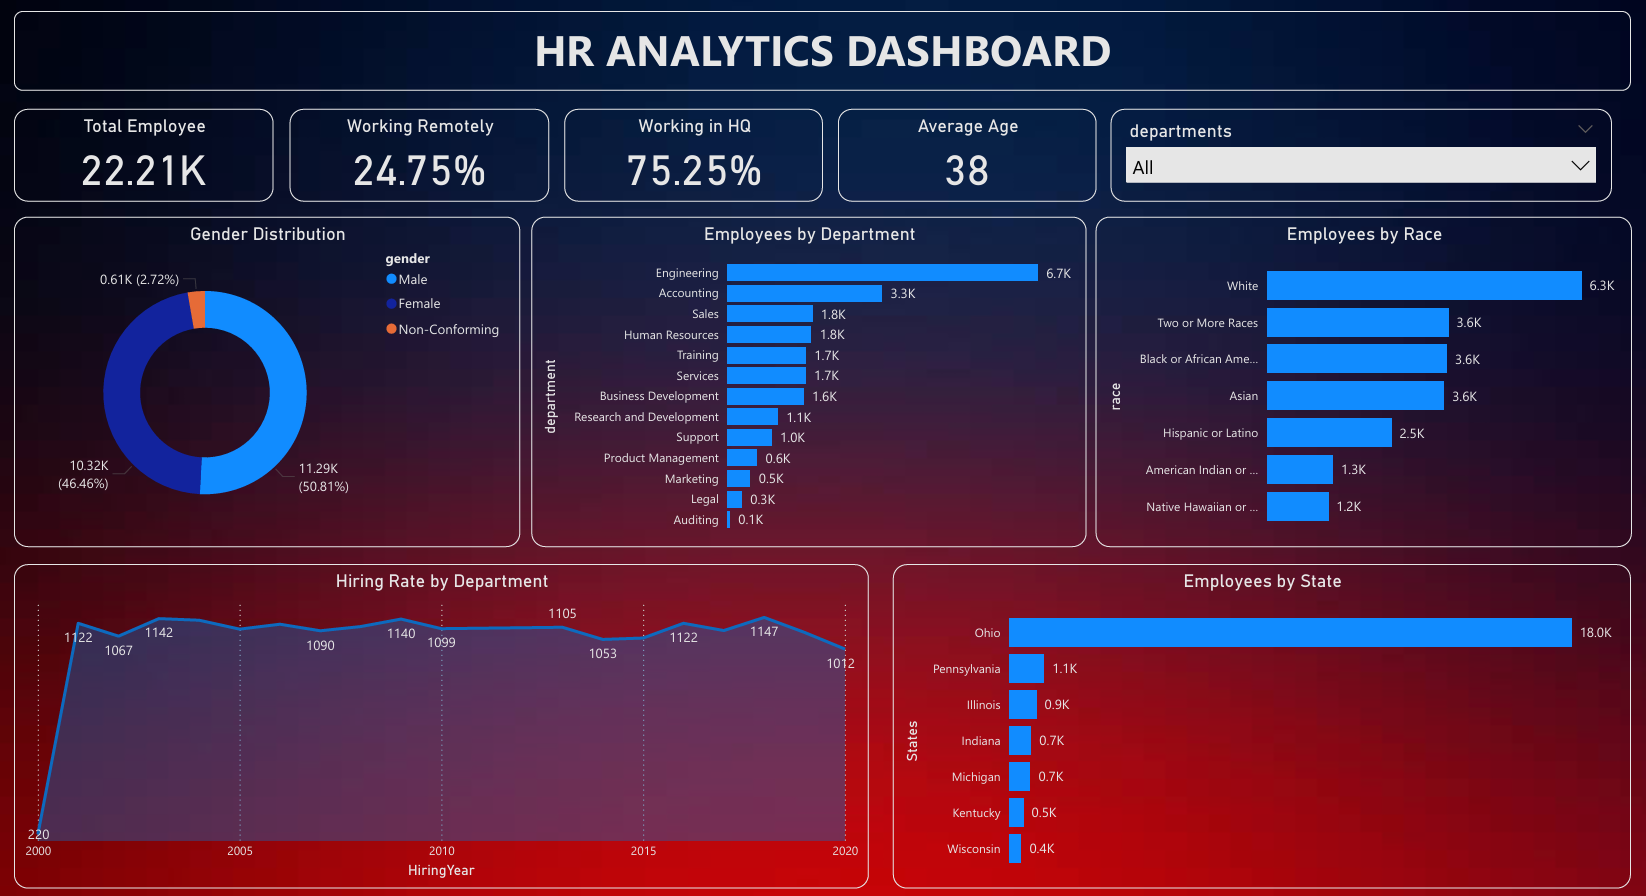

The dashboard page shown, as its layout file describes it:
{"tool":"powerbi","page":{"name":"Page 1","canvas":[1660,910],"ordinal":0},"visuals":[{"type":"card","title":"Total Employee","fields":{"Values":["project_hr_analytics HR.Employee_Count"]},"box":[19.5,113.9,259.3,92.9],"z":0},{"type":"donutChart","title":"Gender Distribution","fields":{"Category":["project_hr_analytics HR.gender"],"Y":["CountNonNull(project_hr_analytics HR.id)"]},"box":[19.5,221.8,506.6,331.3],"z":1000},{"type":"card","title":"Average Age","fields":{"Values":["Avg(project_hr_analytics HR.Age)"]},"box":[843.9,113.9,259.3,92.9],"z":2000},{"type":"card","title":"Working Remotely","fields":{"Values":["project_hr_analytics HR.RemotePercentage"]},"box":[295.3,113.9,259.3,92.9],"z":3000},{"type":"card","title":"Working in HQ","fields":{"Values":["project_hr_analytics HR.HQpercentage"]},"box":[569.6,113.9,259.3,92.9],"z":4000},{"type":"clusteredBarChart","title":"Employees by State","fields":{"Category":["project_hr_analytics HR.location_state"],"Y":["CountNonNull(project_hr_analytics HR.id)"]},"box":[899.3,569.6,739,325.3],"z":5000},{"type":"clusteredBarChart","title":"Employees by Race","fields":{"Category":["project_hr_analytics HR.race"],"Y":["CountNonNull(project_hr_analytics HR.id)"]},"box":[1102.2,221.6,536.3,331.7],"z":6000},{"type":"clusteredBarChart","title":"Employees by Department","fields":{"Y":["CountNonNull(project_hr_analytics HR.id)"],"Category":["project_hr_analytics HR.department"]},"box":[536.6,221.8,556.1,331.3],"z":7000},{"type":"lineChart","title":"Hiring Rate by Year","fields":{"Y":["CountNonNull(project_hr_analytics HR.id)"],"Category":["project_hr_analytics HR.HiringYear"]},"box":[19.5,569.6,855.9,325.3],"z":8000},{"type":"textbox","box":[19.5,16.5,1618.8,79.4],"z":9000},{"type":"slicer","fields":{"Values":["project_hr_analytics HR.department"]},"box":[1116.7,113.9,502.1,92.9],"z":10000}]}

Visuals, with their boxes in screenshot pixels (x1, y1, x2, y2), scaled from the page's 1660x910 canvas onto the 1646x896 screenshot:
"Total Employee" card: l=19, t=112, r=276, b=204
"Gender Distribution" donutChart: l=19, t=218, r=522, b=545
"Average Age" card: l=837, t=112, r=1094, b=204
"Working Remotely" card: l=293, t=112, r=550, b=204
"Working in HQ" card: l=565, t=112, r=822, b=204
"Employees by State" clusteredBarChart: l=892, t=561, r=1624, b=881
"Employees by Race" clusteredBarChart: l=1093, t=218, r=1625, b=545
"Employees by Department" clusteredBarChart: l=532, t=218, r=1083, b=545
"Hiring Rate by Year" lineChart: l=19, t=561, r=868, b=881
textbox: l=19, t=16, r=1624, b=94
slicer - project_hr_analytics HR.department: l=1107, t=112, r=1605, b=204
